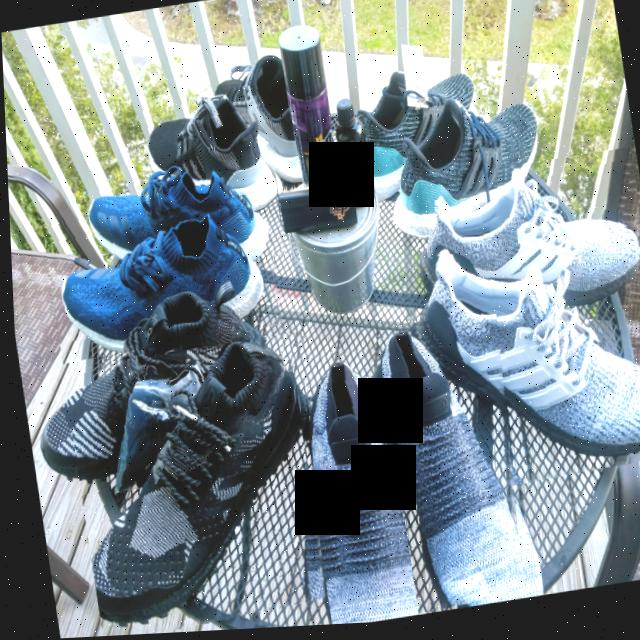shoe: (58, 332, 340, 638), (395, 230, 640, 504), (372, 313, 535, 619), (405, 152, 640, 344), (40, 193, 284, 365), (286, 336, 411, 629), (69, 144, 287, 292), (374, 85, 557, 254), (139, 84, 283, 213)
